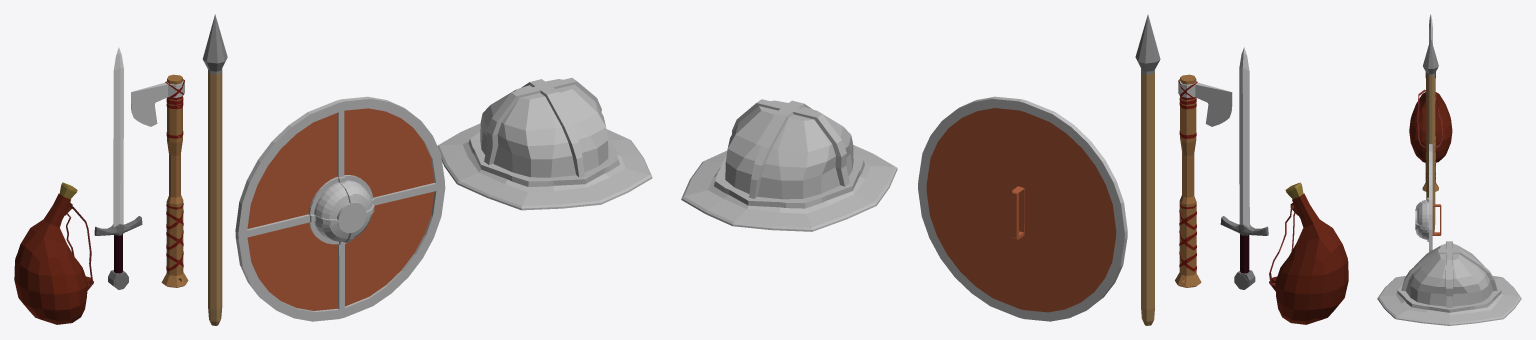
The model's file is stuff2.fbx.
3 views of the same model, side by side, from view 1: azimuth 30°, elevation 25°; view 2: azimuth 150°, elevation 25°; view 3: azimuth 270°, elevation 25° (orthographic). The views are drawn at different scales.
Parts seen in each view (by area): view 1: shield, helmet, wine skin, spear, axe, sword; view 2: shield, helmet, wine skin, axe, spear, sword; view 3: helmet, wine skin, spear, shield, axe.
Boxes of the visible parts, x1=… form: shield: x1=235, y1=96, x2=445, y2=321; helmet: x1=437, y1=77, x2=652, y2=210; wine skin: x1=14, y1=182, x2=93, y2=324; spear: x1=202, y1=14, x2=227, y2=325; axe: x1=131, y1=74, x2=188, y2=287; sword: x1=94, y1=47, x2=142, y2=289; shield: x1=918, y1=96, x2=1127, y2=321; helmet: x1=681, y1=99, x2=897, y2=231; wine skin: x1=1269, y1=182, x2=1348, y2=324; axe: x1=1175, y1=74, x2=1232, y2=287; spear: x1=1135, y1=15, x2=1160, y2=325; sword: x1=1220, y1=47, x2=1268, y2=289; helmet: x1=1377, y1=241, x2=1521, y2=325; wine skin: x1=1409, y1=89, x2=1452, y2=162; spear: x1=1423, y1=38, x2=1438, y2=232; shield: x1=1415, y1=144, x2=1441, y2=251; axe: x1=1422, y1=72, x2=1438, y2=191.
Bounding box in the file's own units: 2464 × 1254 × 774.
